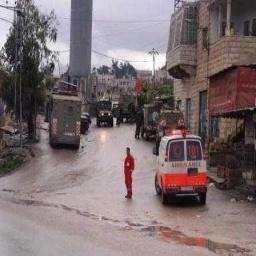ambulance: (155, 129, 206, 203), (48, 83, 80, 147)
